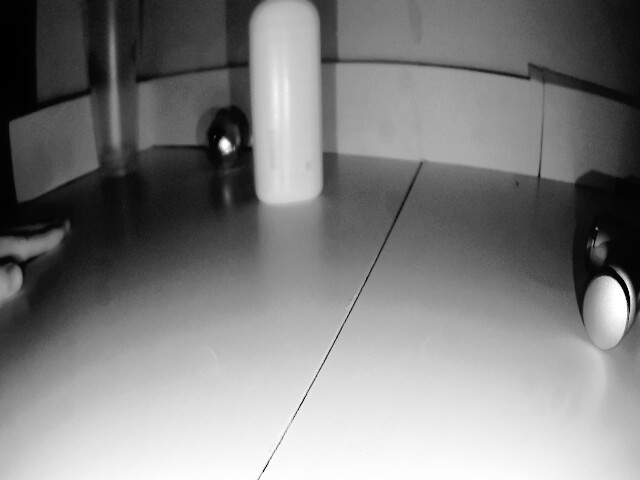silver: (199, 116, 251, 168)
